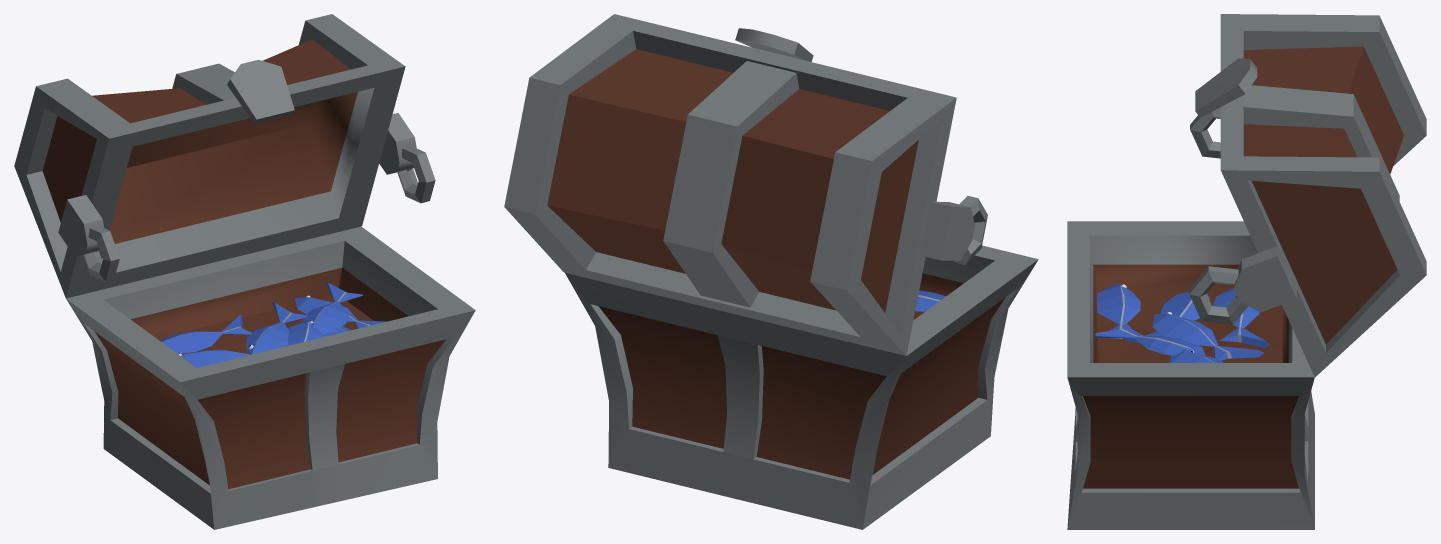
Rendered from metal_chest_open.fbx.
The picture shows the model from 3 angles, left to right: view 1: azimuth 30°, elevation 25°; view 2: azimuth 150°, elevation 25°; view 3: azimuth 270°, elevation 25°; orthographic projection. The views are drawn at different scales.
Visible parts, largest first — view 1: metal_chest_open; view 2: metal_chest_open; view 3: metal_chest_open.
Part boxes in pixels (<box>): metal_chest_open: <box>14,14,475,529</box>; metal_chest_open: <box>504,14,1038,529</box>; metal_chest_open: <box>1067,14,1426,529</box>.
Size of the model in its own units: 9.01 by 9.81 by 7.76.
